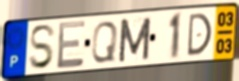1: (168, 10, 185, 62)
D: (185, 11, 214, 58)
E: (56, 19, 87, 72)
M: (117, 16, 153, 64)
Q: (90, 20, 120, 65)
S: (28, 23, 58, 72)
